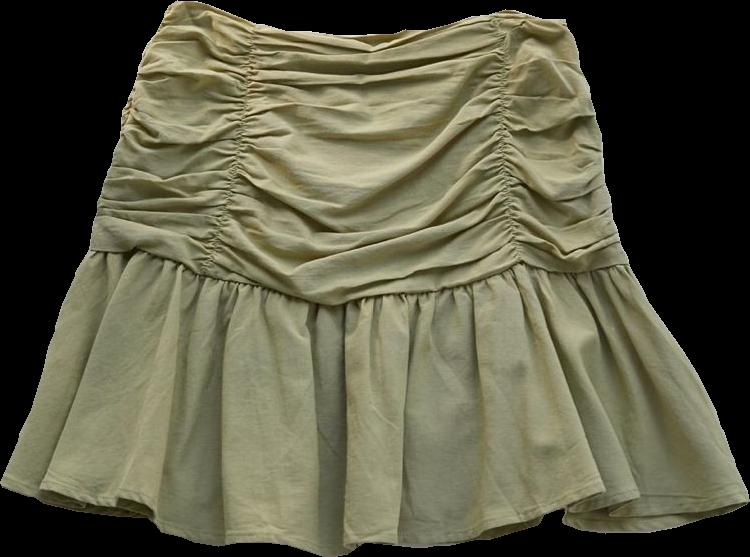Hemline: (0, 482, 743, 555)
Waistline: (83, 247, 631, 310), (167, 0, 565, 50)
